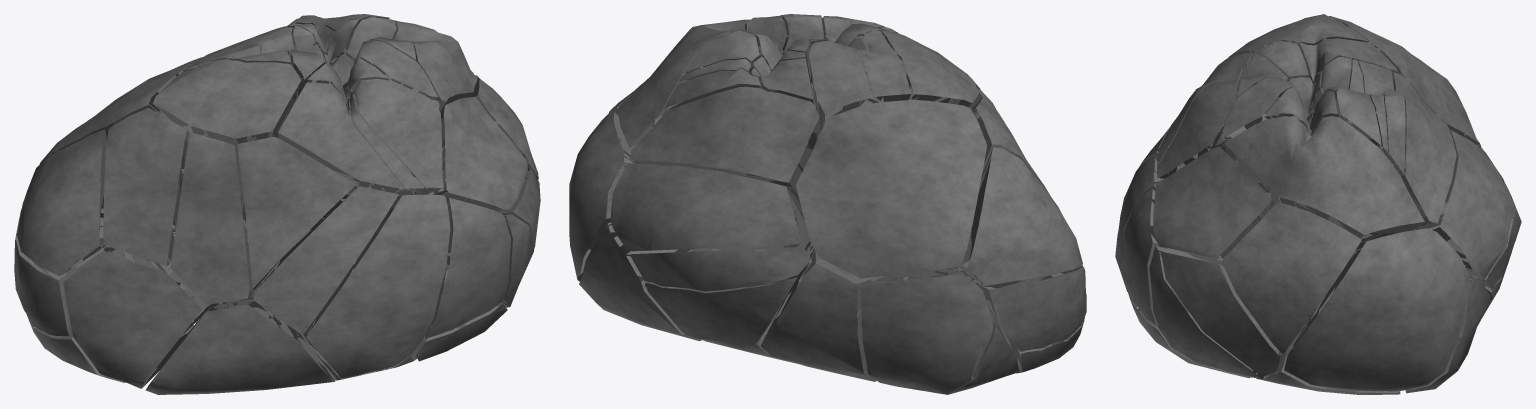
The model's file is DecorativeRock-Smashed.fbx.
3 renders of one model, left to right at view 1: azimuth 30°, elevation 25°; view 2: azimuth 150°, elevation 25°; view 3: azimuth 270°, elevation 25°, orthographic. The views are drawn at different scales.
Parts seen in each view (by area): view 1: Rock_cell.015, Rock_cell.014, Rock_cell.017, Rock_cell.029, Rock_cell.031, Rock_cell.039, Rock_cell.034, Rock_cell.048, Rock_cell.006, Rock_cell.033, Rock_cell.021, Rock_cell.013 (+19 smaller); view 2: Rock_cell.049, Rock_cell.002, Rock_cell.035, Rock_cell.023, Rock_cell.034, Rock_cell.025, Rock_cell.045, Rock_cell.037, Rock_cell.004, Rock_cell.027, Rock_cell.019, Rock_cell.043 (+17 smaller); view 3: Rock_cell.027, Rock_cell.043, Rock_cell.040, Rock_cell.021, Rock_cell.002, Rock_cell.022, Rock_cell.023, Rock_cell.026, Rock_cell.024, Rock_cell.049, Rock_cell.033, Rock_cell.011 (+20 smaller).
Boxes of the visible parts, box(x1,y1,x2,y2) form: Rock_cell.015: box(305, 194, 450, 377); Rock_cell.014: box(63, 247, 215, 388); Rock_cell.017: box(145, 297, 334, 394); Rock_cell.029: box(170, 132, 261, 304); Rock_cell.031: box(103, 108, 188, 265); Rock_cell.039: box(238, 136, 355, 290); Rock_cell.034: box(17, 129, 106, 276); Rock_cell.048: box(153, 59, 301, 150); Rock_cell.006: box(253, 186, 398, 335); Rock_cell.033: box(425, 197, 510, 338); Rock_cell.021: box(396, 96, 527, 211); Rock_cell.013: box(278, 82, 421, 200); Rock_cell.049: box(796, 99, 986, 278); Rock_cell.002: box(610, 163, 809, 251); Rock_cell.035: box(861, 268, 993, 394); Rock_cell.023: box(630, 86, 820, 201); Rock_cell.034: box(958, 147, 1082, 285); Rock_cell.025: box(760, 245, 903, 381); Rock_cell.045: box(645, 230, 810, 344); Rock_cell.037: box(976, 265, 1086, 351); Rock_cell.004: box(629, 247, 810, 291); Rock_cell.027: box(569, 112, 640, 281); Rock_cell.019: box(579, 222, 723, 341); Rock_cell.043: box(618, 19, 750, 174); Rock_cell.027: box(1284, 228, 1469, 391); Rock_cell.043: box(1224, 116, 1424, 256); Rock_cell.040: box(1222, 202, 1361, 353); Rock_cell.021: box(1153, 146, 1274, 265); Rock_cell.002: box(1386, 130, 1513, 278); Rock_cell.022: box(1161, 252, 1282, 376); Rock_cell.023: box(1382, 72, 1456, 226); Rock_cell.026: box(1149, 246, 1260, 377); Rock_cell.024: box(1157, 79, 1240, 179); Rock_cell.049: box(1329, 16, 1481, 171); Rock_cell.033: box(1119, 188, 1223, 325); Rock_cell.011: box(1223, 77, 1293, 137).
Size of the model in its own units: 364 by 201 by 278.
Materials: 1 (1 with a texture image).
